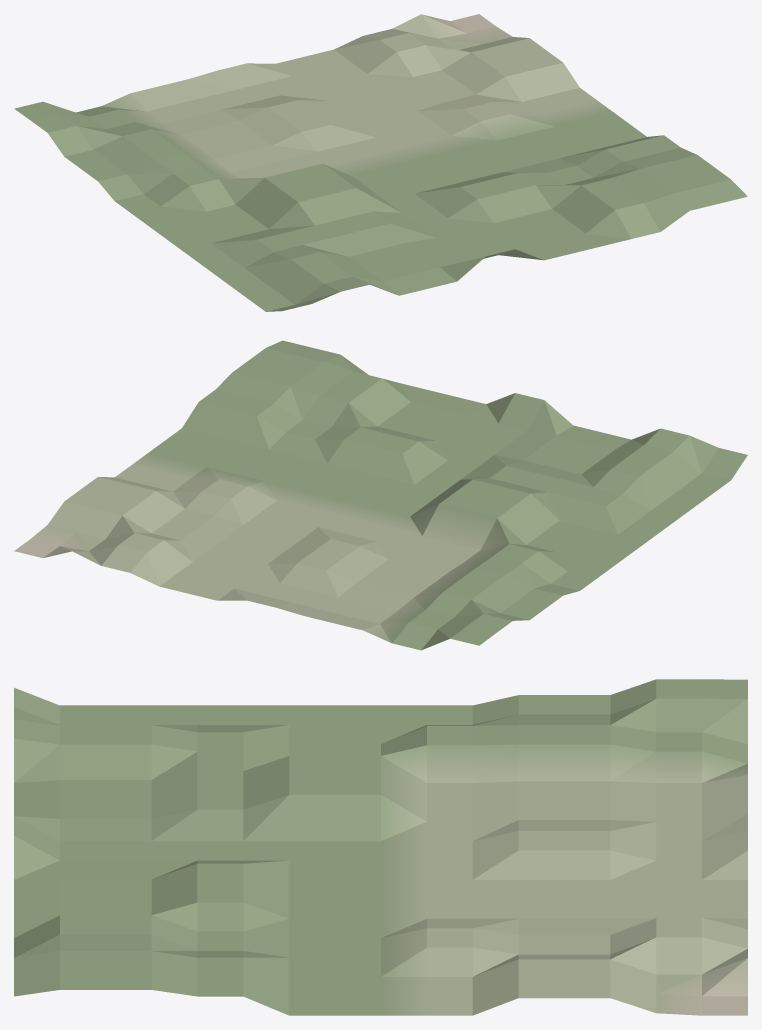
The picture shows the model from 3 angles, top to bottom: view 1: azimuth 30°, elevation 25°; view 2: azimuth 150°, elevation 25°; view 3: azimuth 270°, elevation 25°; orthographic projection. The views are drawn at different scales.
Size of the model in its own units: 32 by 1.3 by 32.
